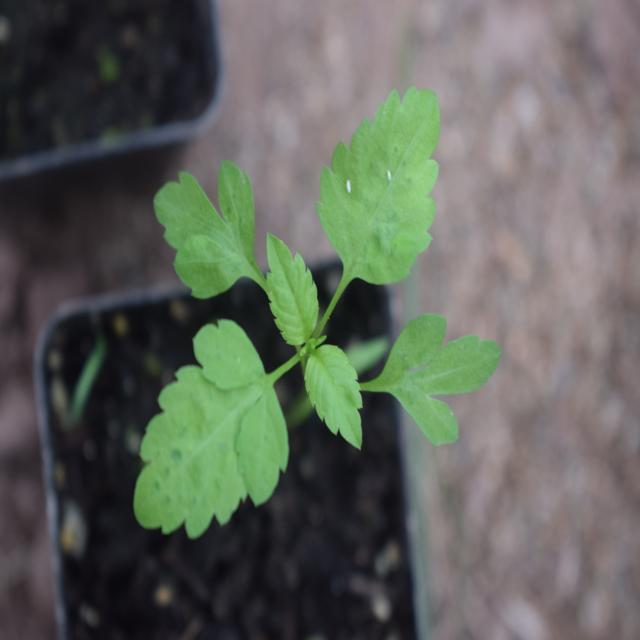Bidens pilosa: (107, 73, 487, 547)
